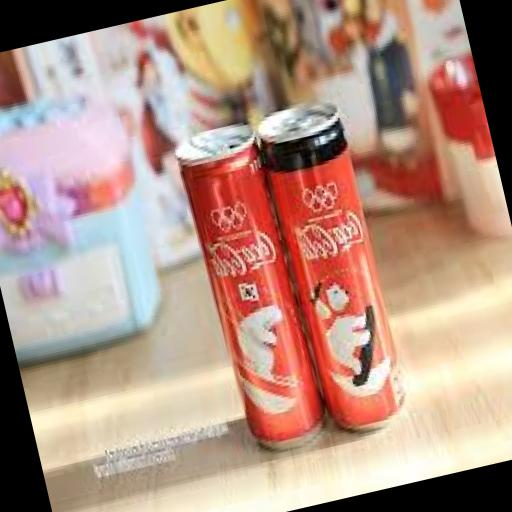Coca: (176, 113, 330, 460)
